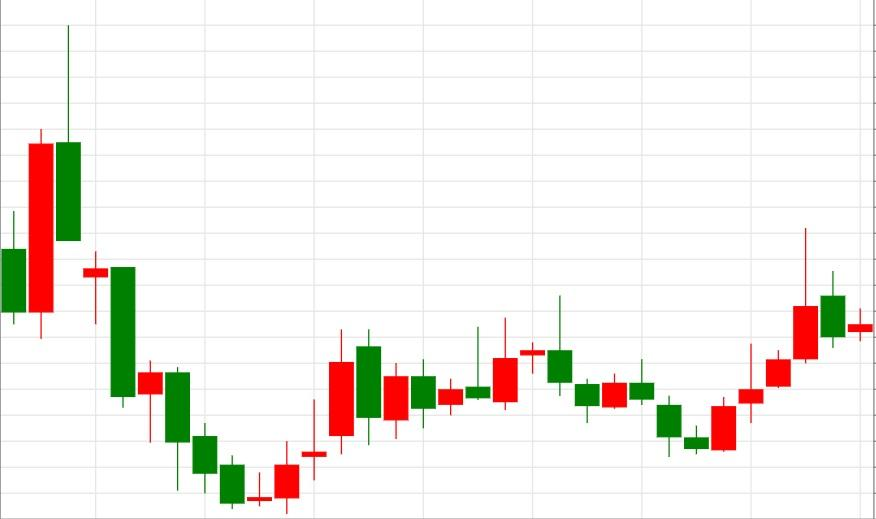morning_star_rise: (56, 24, 300, 515)
three_white_soldiers_rise: (547, 294, 792, 457)
